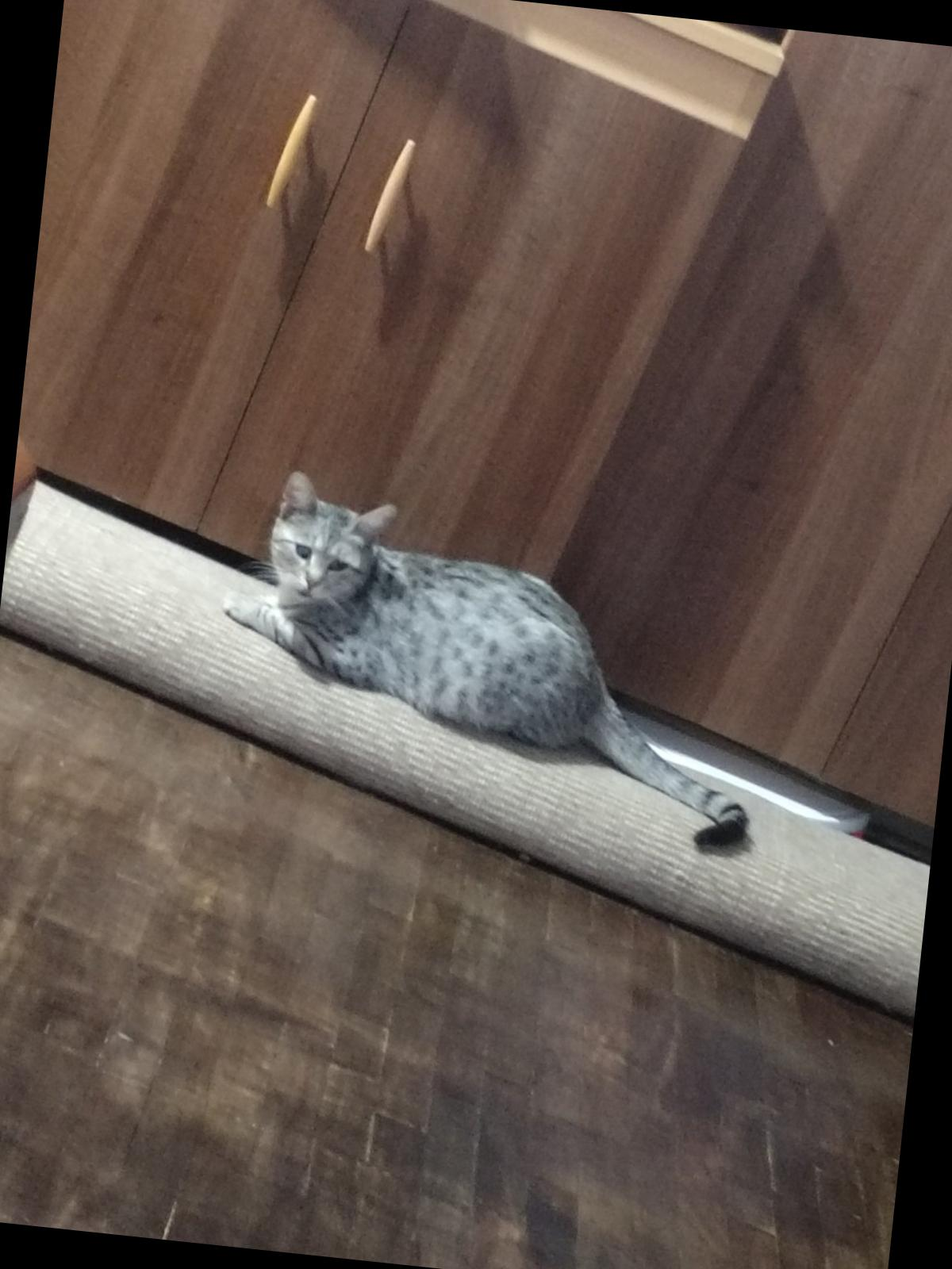macka: (198, 457, 794, 867)
